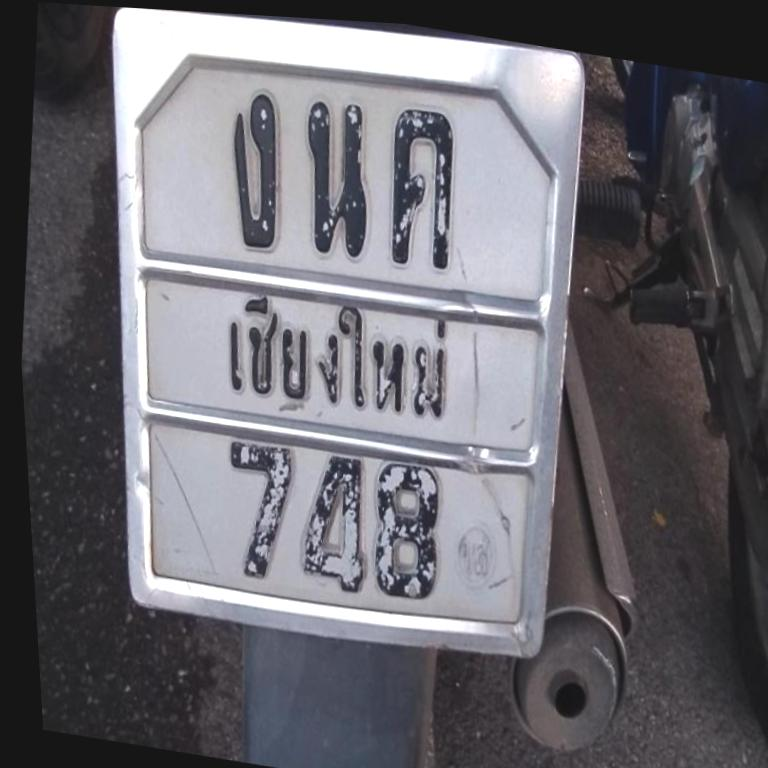license plate: (43, 3, 634, 687)
